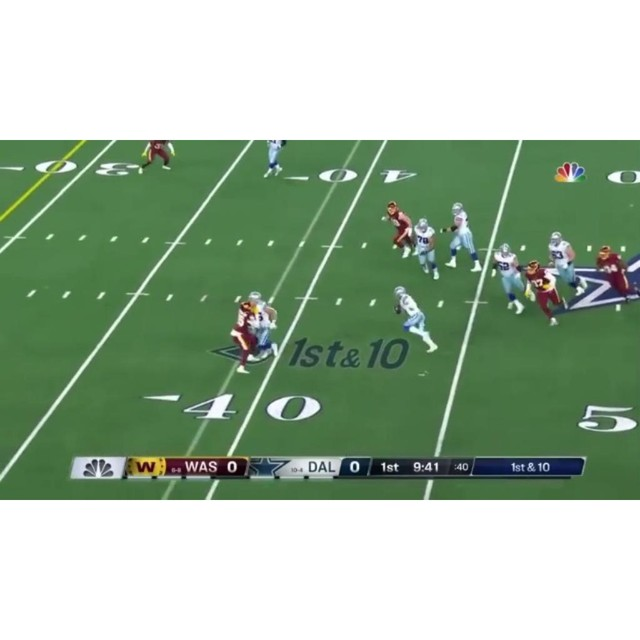american-football-player: (523, 259, 568, 328), (394, 285, 438, 352), (441, 202, 482, 272), (490, 243, 526, 314), (595, 245, 636, 305), (548, 232, 586, 296), (247, 291, 279, 361), (229, 302, 259, 373), (382, 200, 415, 258), (411, 217, 440, 281), (138, 141, 175, 174), (263, 140, 286, 178)
